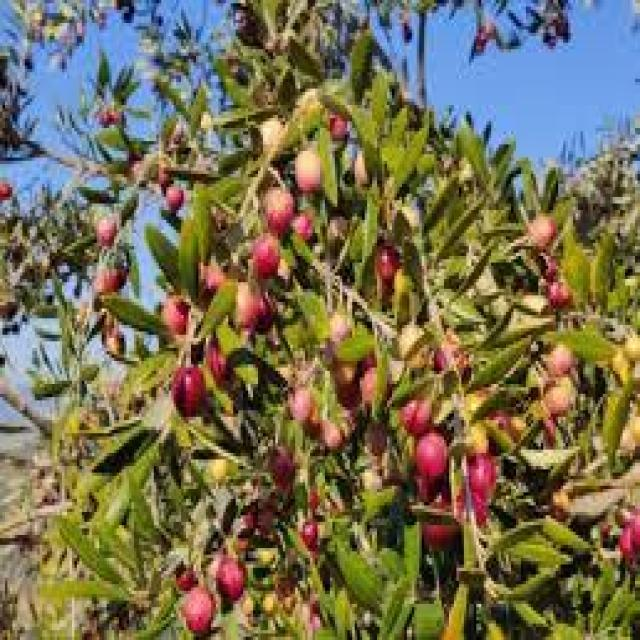Healthy: (171, 364, 203, 414), (416, 430, 446, 480), (263, 187, 293, 233), (181, 587, 213, 630), (217, 557, 244, 602), (253, 233, 278, 276)
